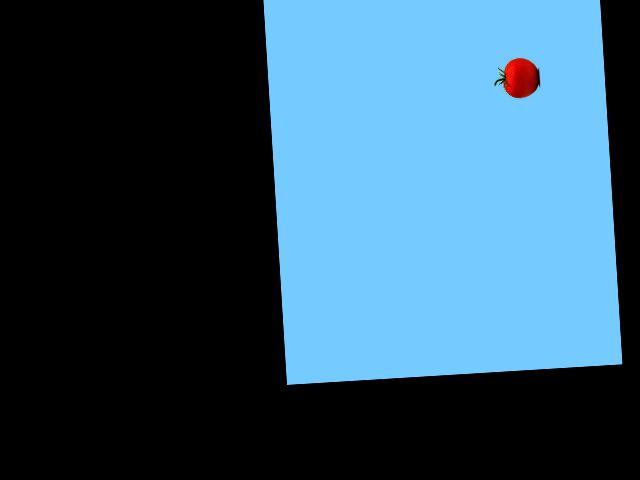tomato: (502, 56, 539, 98)
